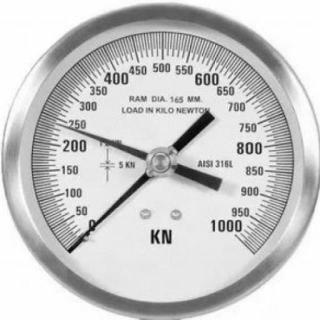gauge: (0, 0, 320, 320), (204, 216, 254, 256), (62, 230, 94, 266), (145, 146, 177, 178), (64, 241, 80, 256), (46, 116, 62, 130)
